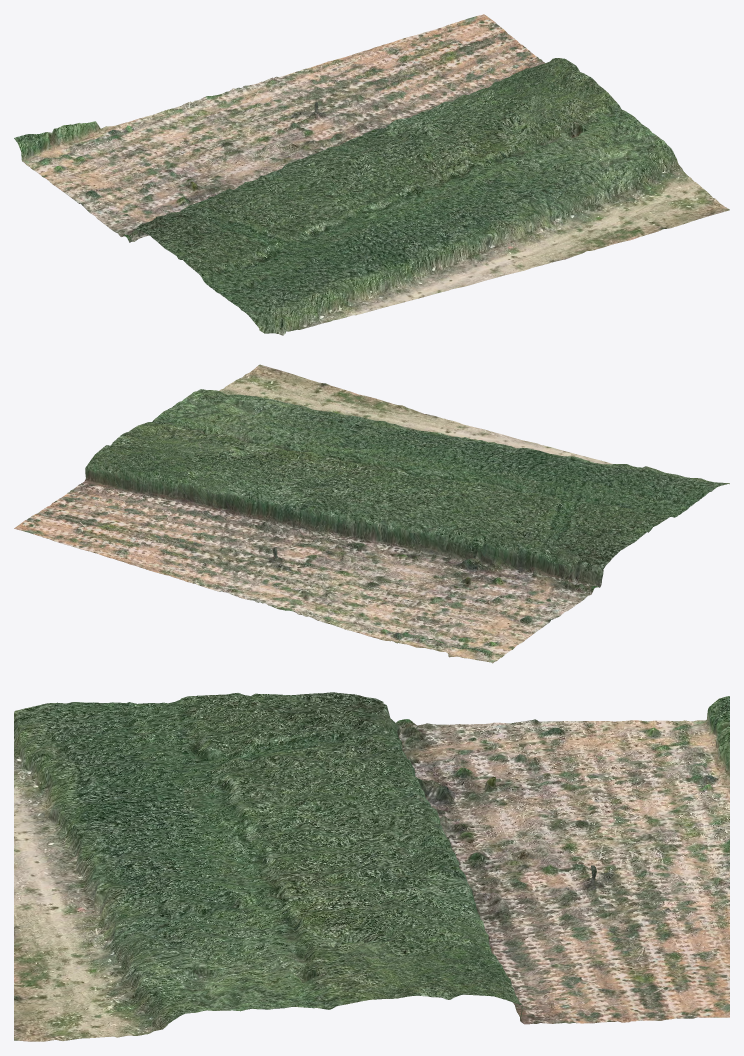
The model's file is BlockYXYY_L20_25.glb.
3 renders of one model, top to bottom at view 1: azimuth 30°, elevation 25°; view 2: azimuth 150°, elevation 25°; view 3: azimuth 270°, elevation 25°, orthographic. The views are drawn at different scales.
Parts seen in each view (by area): view 1: rtc; view 2: rtc; view 3: rtc.
Boxes of the visible parts, x1,y1,x2,y2 form: rtc: (14,14,729,335); rtc: (14,364,729,663); rtc: (14,692,729,1041).
Size of the model in its own units: 32.74 by 3.22 by 29.61.
4 materials, 4 textured.
